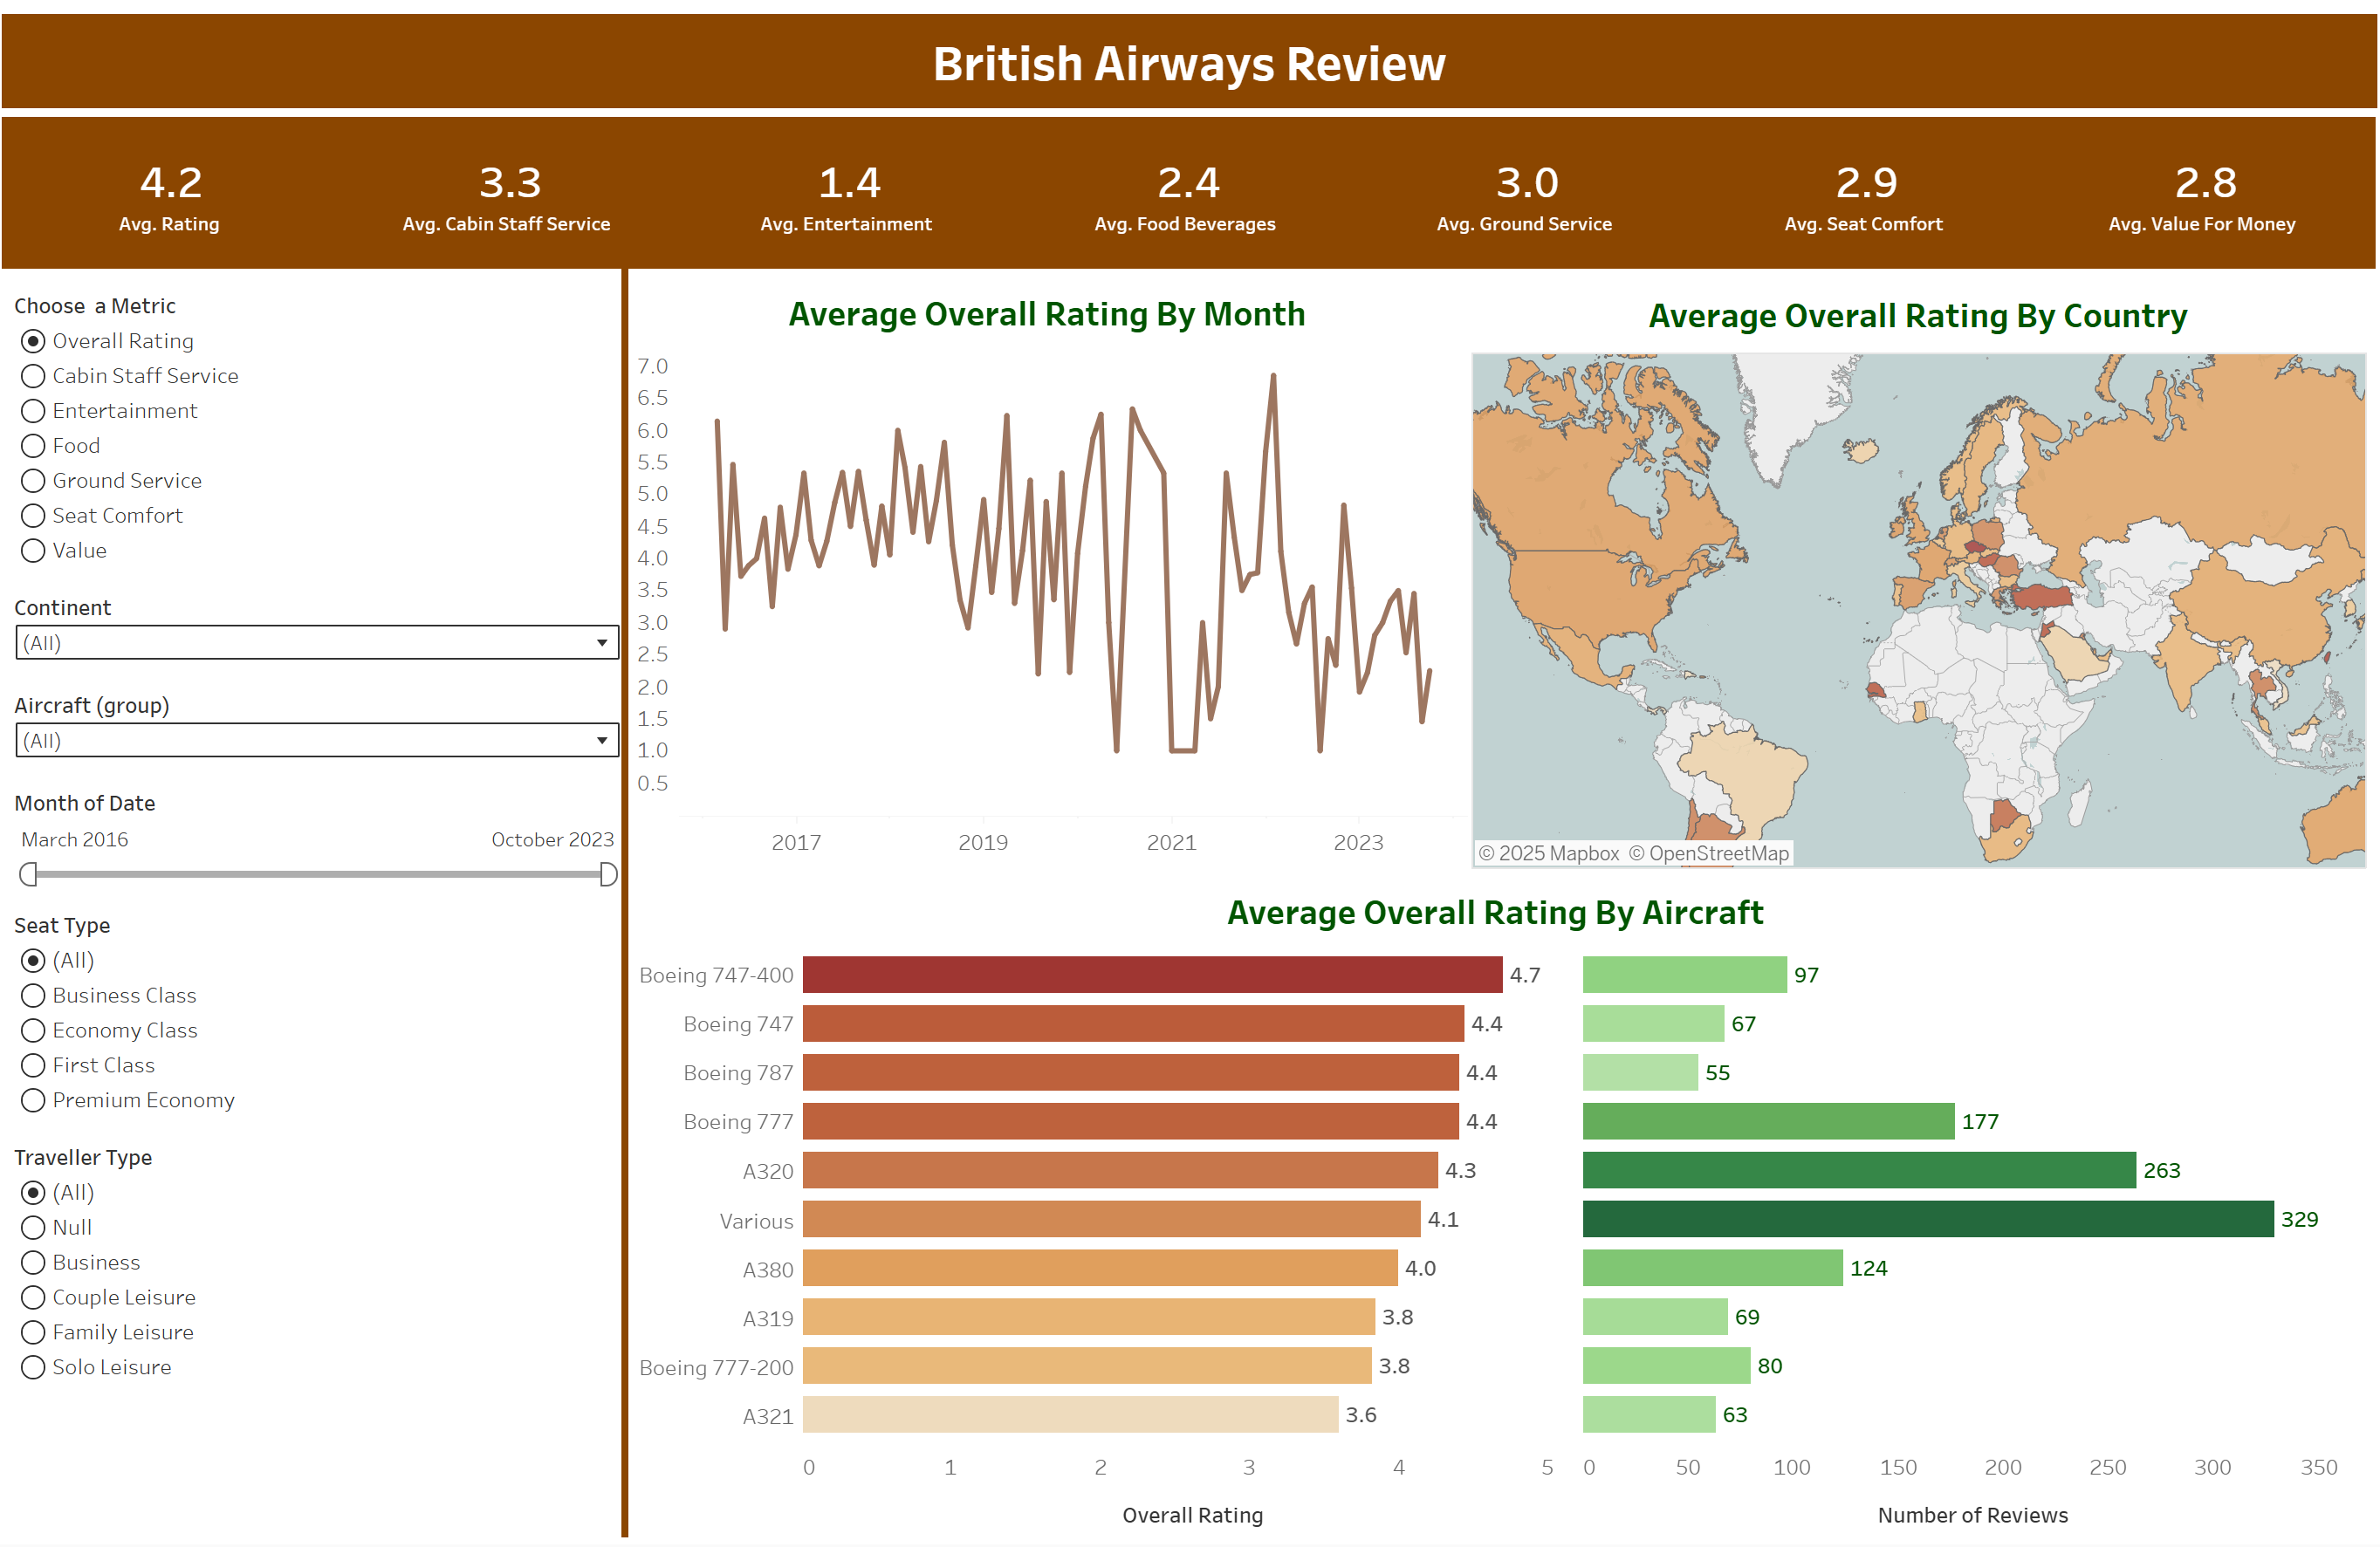

Layout of this report page (visuals, bound fields, positions):
{"tool":"tableau","page":{"name":"Dashboard 1","canvas":[1000,1000],"units":"permille","ordinal":0},"visuals":[{"type":"text","box":[0.9,8.7,994.8,61.1]},{"type":"worksheet","title":"Summery","mark":"Automatic","box":[0.9,75.6,993.9,98.8]},{"type":"blank","box":[260.2,174.4,2.7,821.2]},{"type":"worksheet","title":"Line Chart","mark":"Automatic","rows":["Calculation_333547914972569601"],"cols":["date"],"box":[262.8,180.2,351.8,380.8]},{"type":"worksheet","title":"Map","mark":"Automatic","box":[616.2,181.7,375.1,380.8]},{"type":"parameter","param":"[Parameters].[Parameter 1]","box":[2.7,183.1,260.2,176.8]},{"type":"filter","title":"Map","param":"[federated.1ptslkq0xc6fsl110tfgq0jw5psg].[none:Continent:nk]","box":[2.7,360,260.2,75.6]},{"type":"filter","title":"Map","param":"[federated.1ptslkq0xc6fsl110tfgq0jw5psg].[Aircraft (group)]","box":[2.7,435.6,260.2,75.6]},{"type":"filter","title":"Map","param":"[federated.1ptslkq0xc6fsl110tfgq0jw5psg].[tmn:date:qk]","box":[2.7,511.1,260.2,100.3]},{"type":"worksheet","title":"Bar Chart","mark":"Automatic","cols":["Calculation_333547914972569601","ba_reviews.csv_2D200B4EA5114F1E81E26C731A1B7A18"],"box":[262.9,568.3,727.2,428.8]},{"type":"filter","title":"Map","param":"[federated.1ptslkq0xc6fsl110tfgq0jw5psg].[none:seat_type:nk]","box":[2.7,611.4,260.2,176.8]},{"type":"filter","title":"Map","param":"[federated.1ptslkq0xc6fsl110tfgq0jw5psg].[none:traveller_type:nk]","box":[2.7,788.3,260.2,176.8]}]}

Visuals, with their boxes on the dashboard's canvas, which has no fixed pixel size, in thousandths of its width and height (x1, y1, x2, y2). These are canvas units, not pixel positions in the 2380x1547 screenshot, which may show the page scaled, cropped or inside an application window:
text: box(1, 9, 996, 70)
"Summery" worksheet: box(1, 76, 995, 174)
blank: box(260, 174, 263, 996)
"Line Chart" worksheet: box(263, 180, 615, 561)
"Map" worksheet: box(616, 182, 991, 562)
parameter: box(3, 183, 263, 360)
"Map" filter: box(3, 360, 263, 436)
"Map" filter: box(3, 436, 263, 511)
"Map" filter: box(3, 511, 263, 611)
"Bar Chart" worksheet: box(263, 568, 990, 997)
"Map" filter: box(3, 611, 263, 788)
"Map" filter: box(3, 788, 263, 965)
